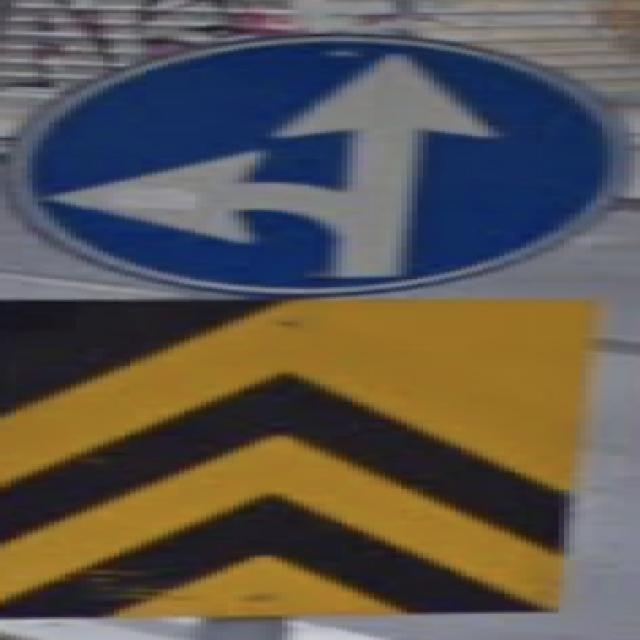Straight or Left: (17, 37, 625, 295)
